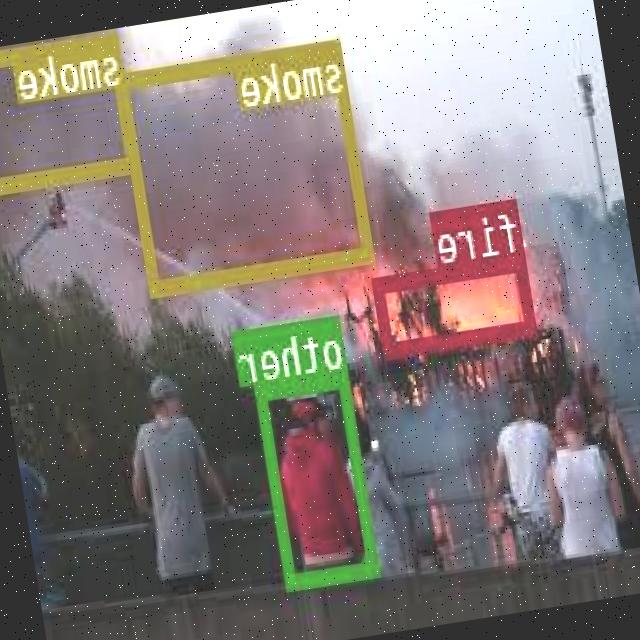fire: (375, 253, 540, 357)
smoke: (118, 35, 376, 294), (0, 29, 140, 193)
